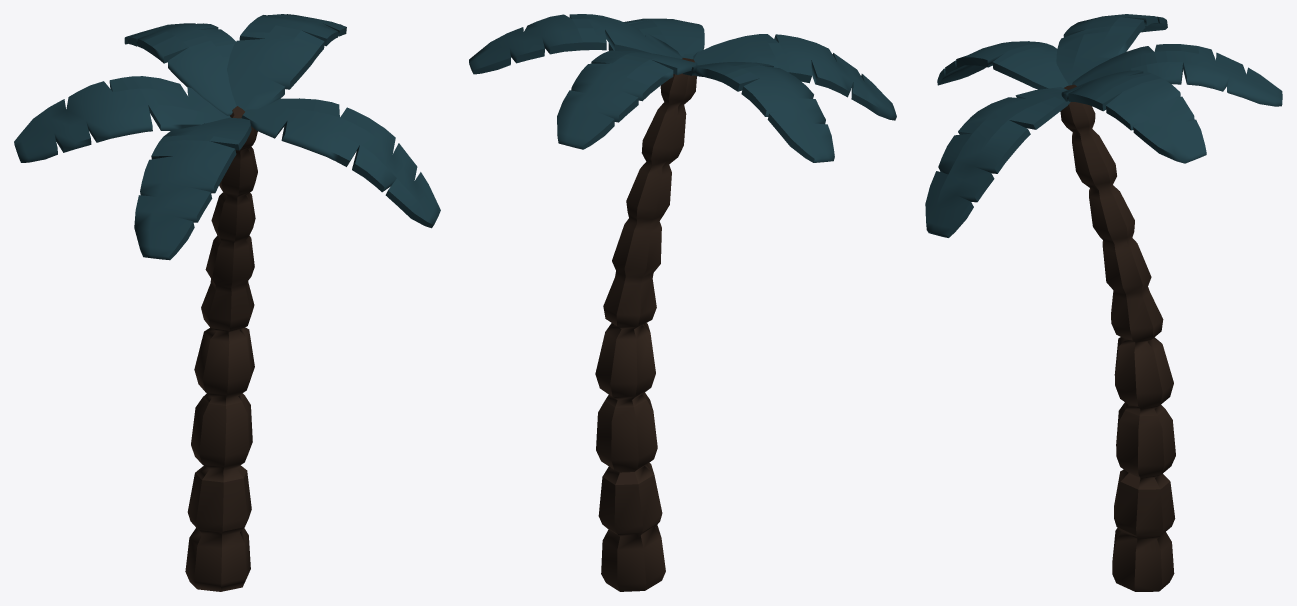
Rendered from palm_tree.glb.
The picture shows the model from 3 angles, left to right: view 1: azimuth 30°, elevation 25°; view 2: azimuth 150°, elevation 25°; view 3: azimuth 270°, elevation 25°; orthographic projection. The views are drawn at different scales.
Visible parts, largest first — view 1: Cube.002; view 2: Cube.002; view 3: Cube.002.
Part boxes in pixels (bbox=[...]): Cube.002: bbox=[14, 14, 440, 591]; Cube.002: bbox=[469, 14, 896, 591]; Cube.002: bbox=[925, 14, 1282, 591].
Size of the model in its own units: 13.68 by 20.66 by 12.7.
